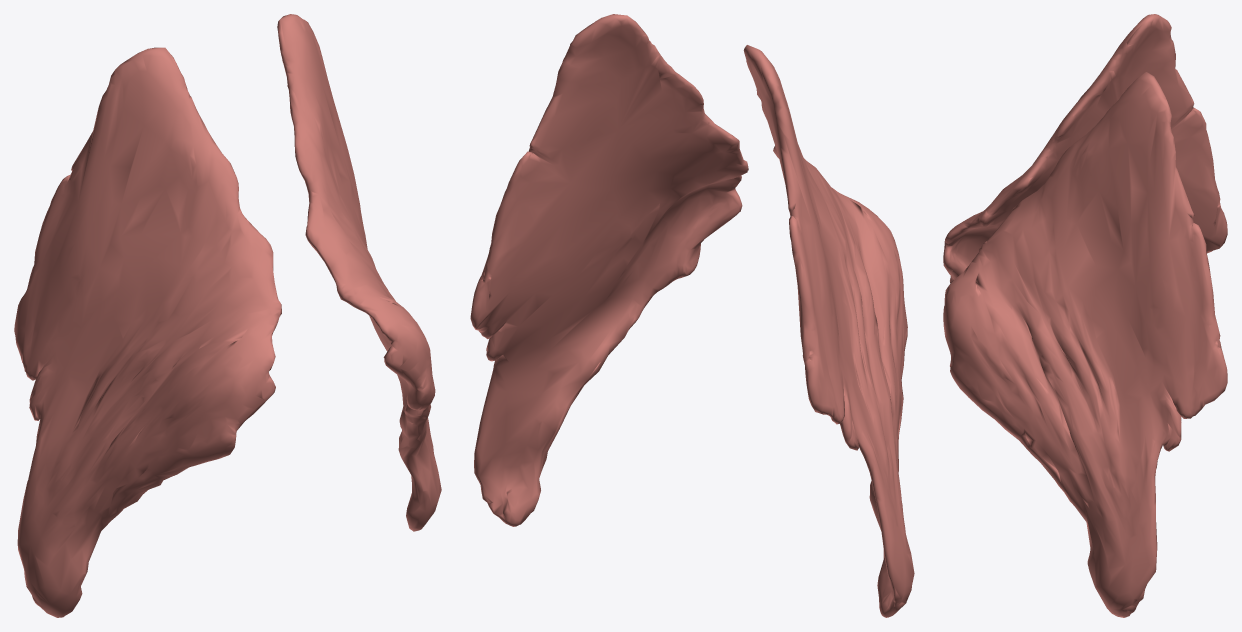
The model's file is nasalis_lod1.glb.
The picture shows the model from 3 angles, left to right: view 1: azimuth 30°, elevation 25°; view 2: azimuth 150°, elevation 25°; view 3: azimuth 270°, elevation 25°; orthographic projection. The views are drawn at different scales.
Visible parts, largest first — view 1: nasalis_R_lod1, nasalis_L_lod1; view 2: nasalis_L_lod1, nasalis_R_lod1; view 3: nasalis_L_lod1, nasalis_R_lod1.
Part boxes in pixels (x1,y1,x2,y2): nasalis_R_lod1: (14, 47, 281, 617); nasalis_L_lod1: (277, 14, 441, 531); nasalis_L_lod1: (470, 14, 748, 526); nasalis_R_lod1: (743, 45, 914, 617); nasalis_L_lod1: (943, 72, 1227, 617); nasalis_R_lod1: (943, 14, 1227, 283).
Bounding box in the file's own units: 0.0336 × 0.0422 × 0.0222.
